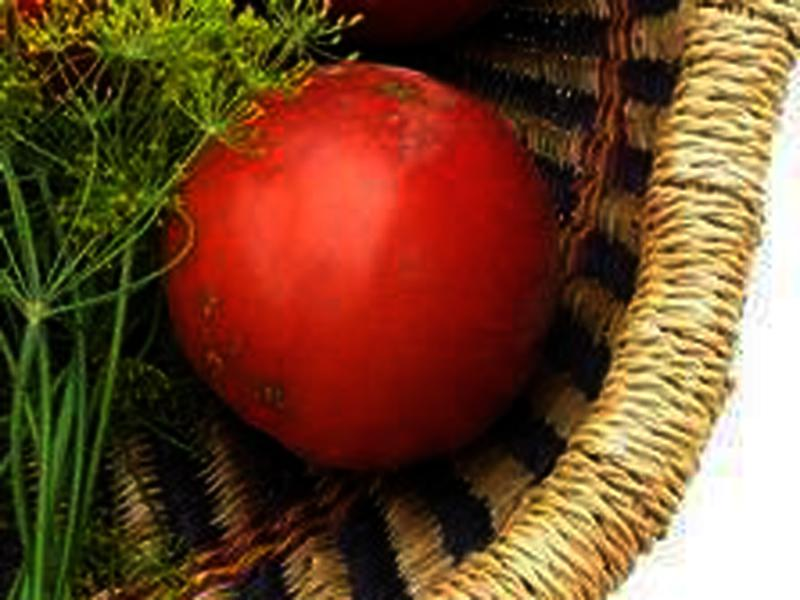Tomato: (157, 60, 559, 466)
